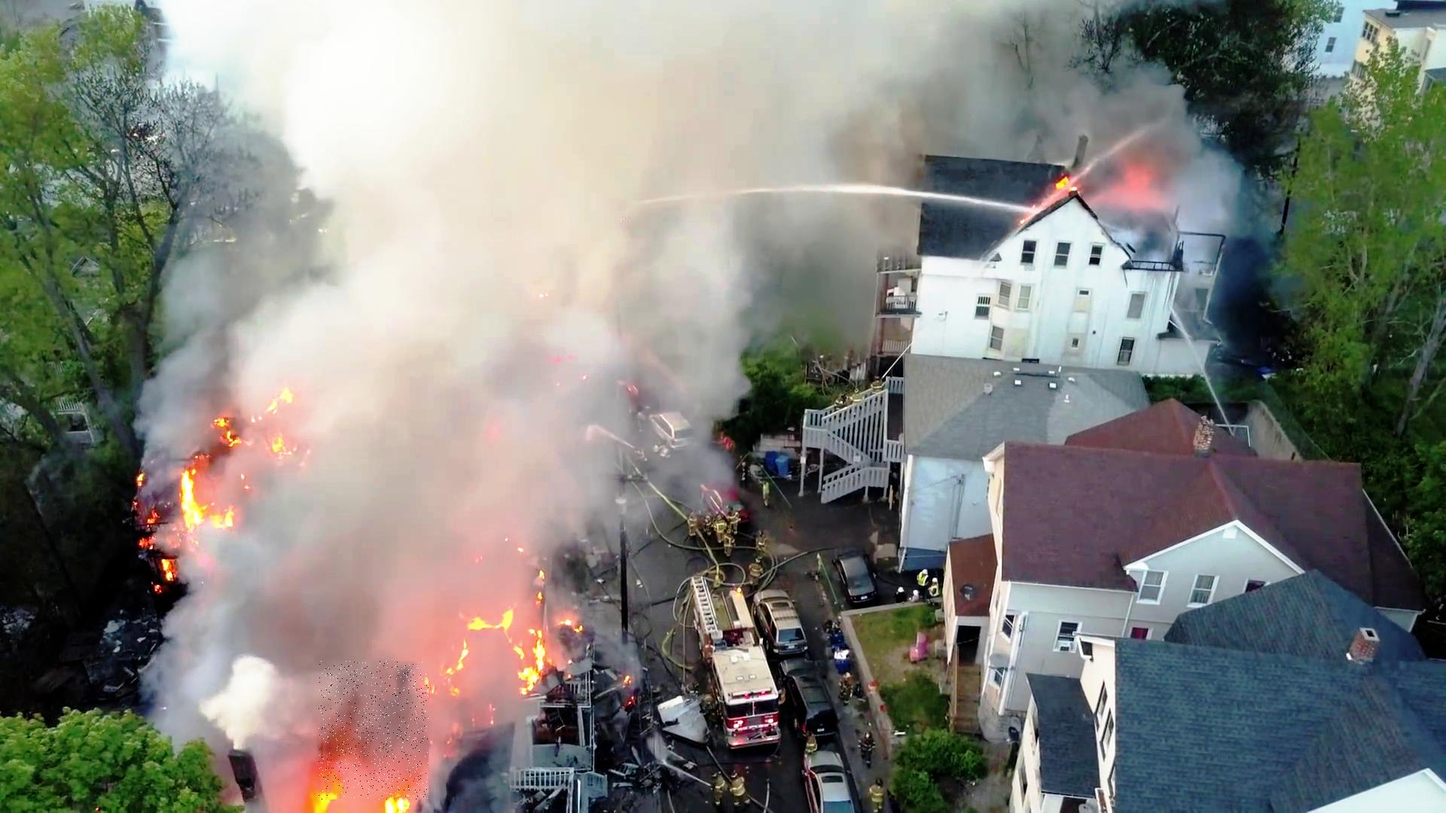smoke: (319, 661, 429, 800)
